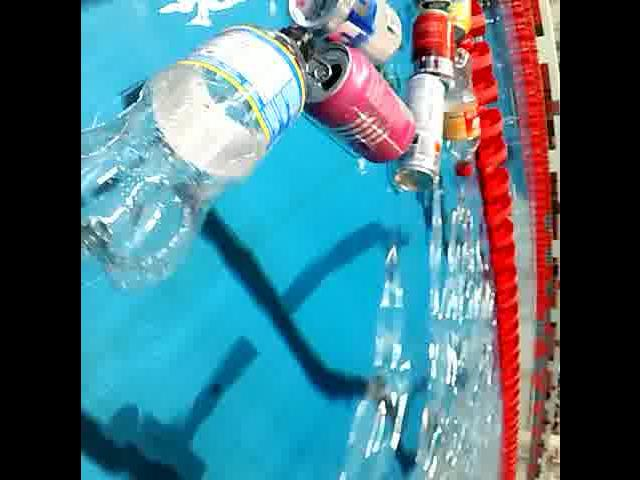Bottle: (80, 13, 325, 300), (438, 44, 483, 184)
Can: (296, 42, 416, 166), (279, 0, 405, 68), (383, 71, 448, 197), (413, 4, 458, 94), (444, 0, 470, 47)
